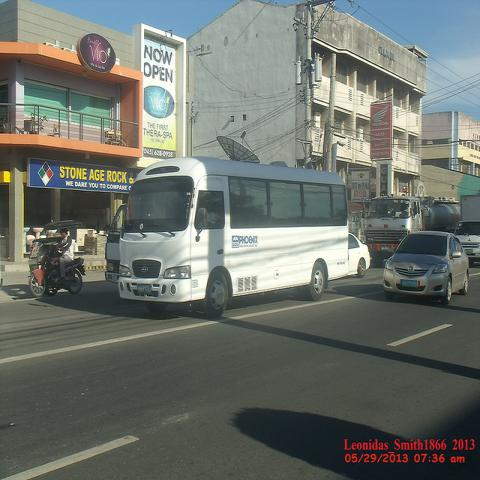bus: (118, 157, 349, 320)
car: (382, 230, 469, 304), (347, 234, 370, 277)
motorcycle: (29, 243, 86, 297)
truck: (365, 194, 460, 250), (454, 194, 479, 263), (106, 205, 126, 281)
